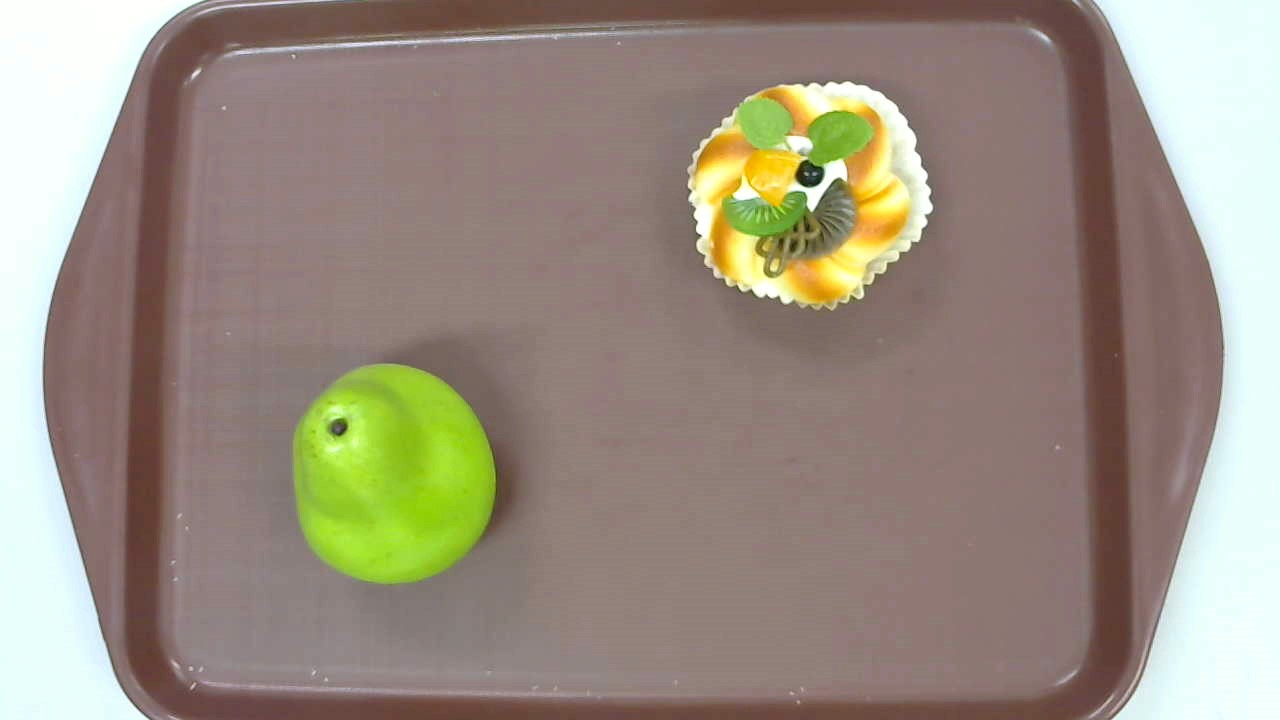fruit tart: (686, 81, 934, 313)
green pear: (292, 362, 497, 584)
